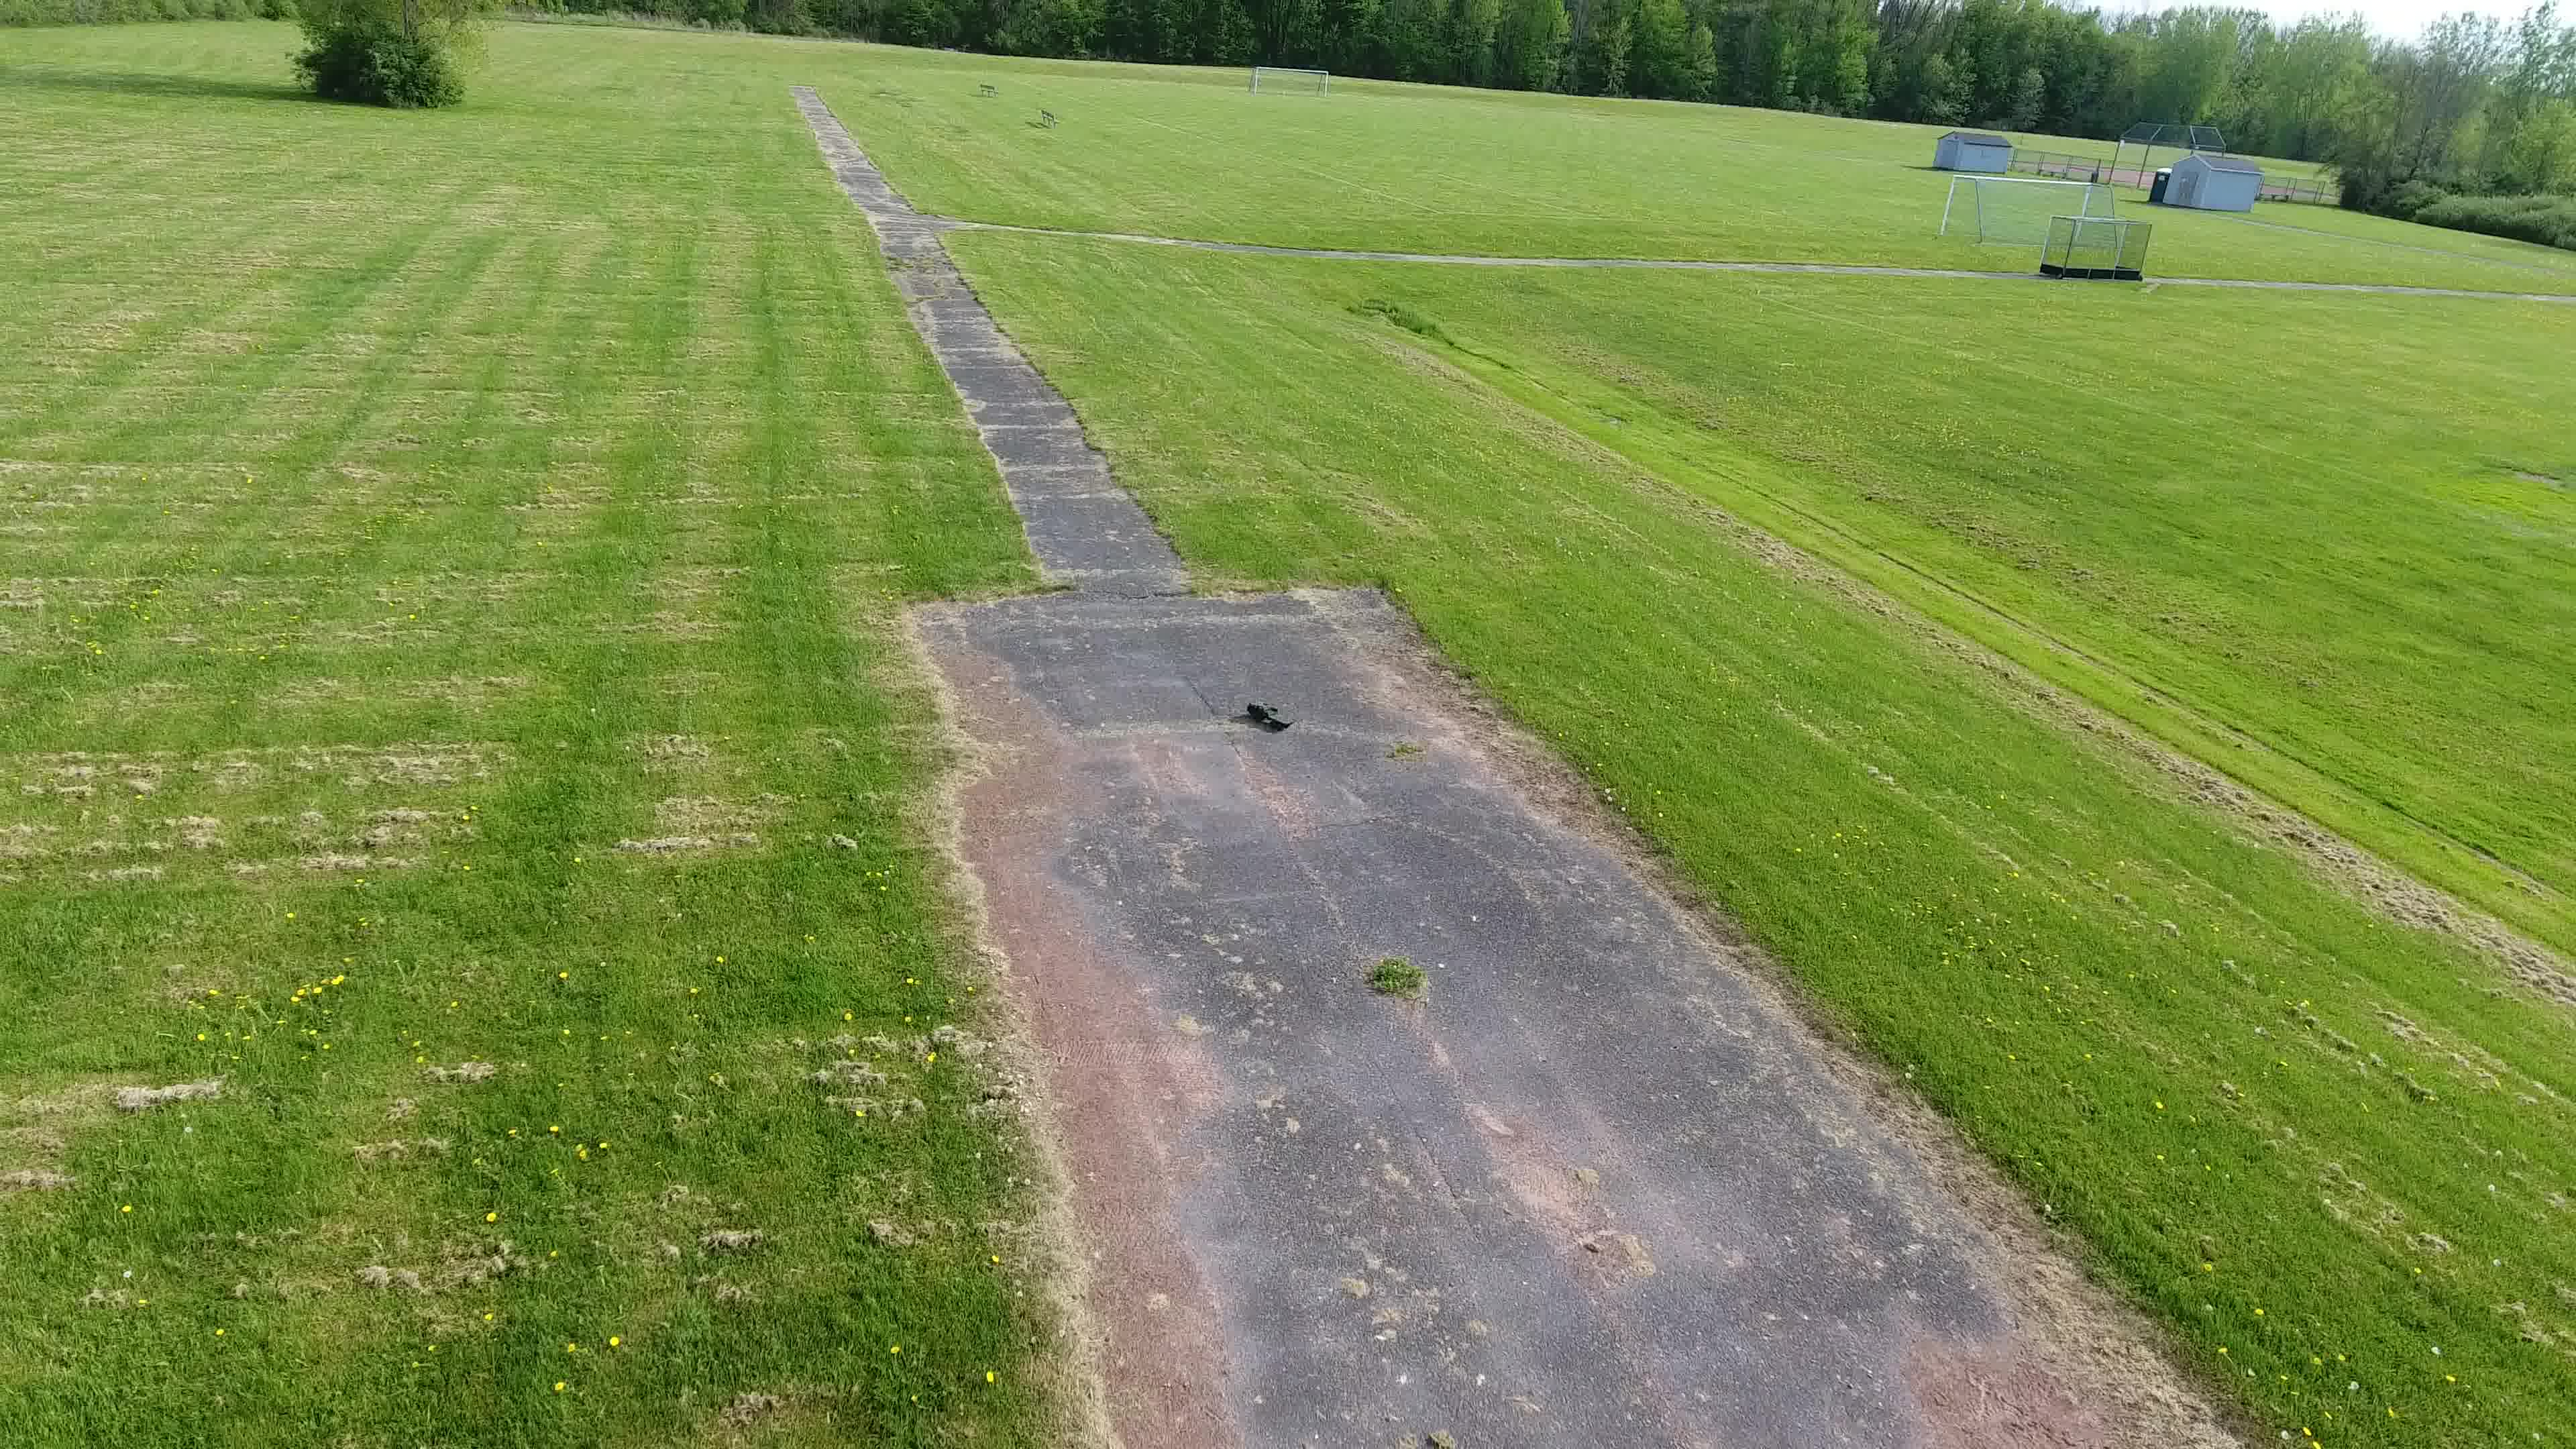transporter9: (1246, 699, 1297, 732)
